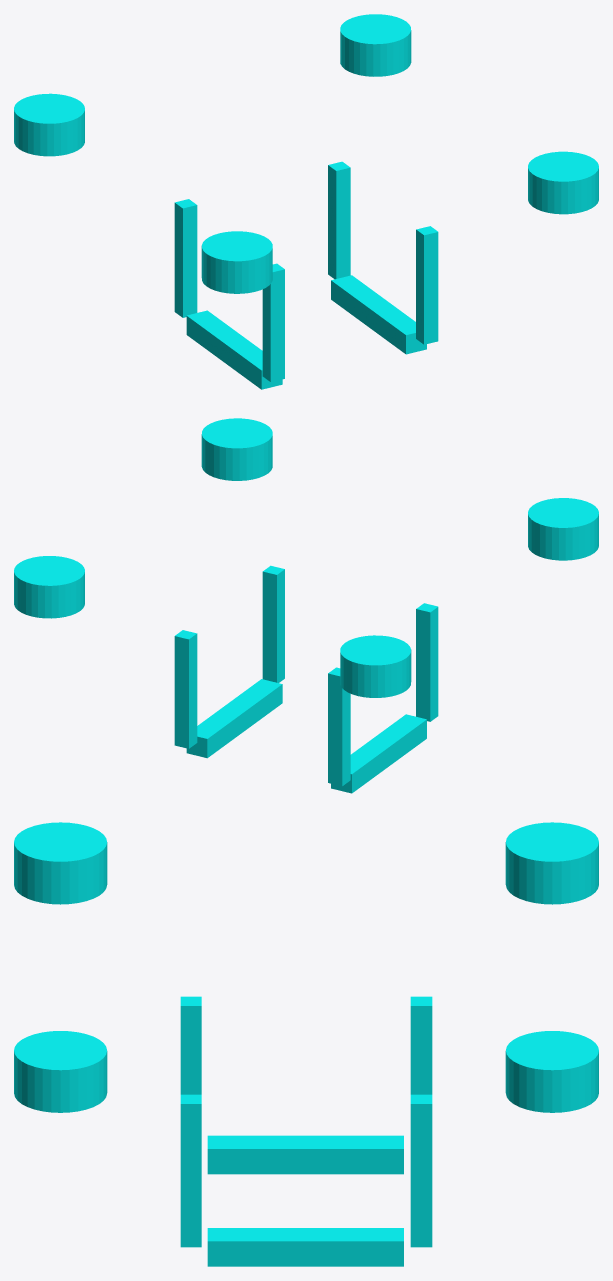
The model's file is SM_QuadcopterFrameCollider.fbx.
3 renders of one model, top to bottom at view 1: azimuth 30°, elevation 25°; view 2: azimuth 150°, elevation 25°; view 3: azimuth 270°, elevation 25°, orthographic. The views are drawn at different scales.
Parts seen in each view (by area): view 1: QuadcopterFrameCollider.01, QuadcopterFrameCollider.04, QuadcopterFrameCollider.03, QuadcopterFrameCollider.02, QuadcopterFrameCollider.06, QuadcopterFrameCollider.09, QuadcopterFrameCollider.10, QuadcopterFrameCollider.07, QuadcopterFrameCollider.05, QuadcopterFrameCollider.08; view 2: QuadcopterFrameCollider.02, QuadcopterFrameCollider.03, QuadcopterFrameCollider.01, QuadcopterFrameCollider.04, QuadcopterFrameCollider.06, QuadcopterFrameCollider.09, QuadcopterFrameCollider.05, QuadcopterFrameCollider.08, QuadcopterFrameCollider.07, QuadcopterFrameCollider.10; view 3: QuadcopterFrameCollider.09, QuadcopterFrameCollider.06, QuadcopterFrameCollider.01, QuadcopterFrameCollider.02, QuadcopterFrameCollider.03, QuadcopterFrameCollider.04, QuadcopterFrameCollider.05, QuadcopterFrameCollider.07, QuadcopterFrameCollider.10, QuadcopterFrameCollider.08.
Boxes of the visible parts, x1,y1,x2,y2 form: QuadcopterFrameCollider.01: [201, 231, 272, 293]; QuadcopterFrameCollider.04: [340, 14, 411, 76]; QuadcopterFrameCollider.03: [528, 151, 598, 214]; QuadcopterFrameCollider.02: [14, 93, 84, 156]; QuadcopterFrameCollider.06: [331, 275, 426, 354]; QuadcopterFrameCollider.09: [186, 310, 282, 389]; QuadcopterFrameCollider.10: [174, 199, 197, 317]; QuadcopterFrameCollider.07: [416, 226, 438, 344]; QuadcopterFrameCollider.05: [328, 161, 350, 279]; QuadcopterFrameCollider.08: [262, 263, 284, 381]; QuadcopterFrameCollider.02: [340, 635, 411, 697]; QuadcopterFrameCollider.03: [201, 418, 272, 480]; QuadcopterFrameCollider.01: [528, 498, 598, 560]; QuadcopterFrameCollider.04: [14, 556, 84, 618]; QuadcopterFrameCollider.06: [186, 679, 282, 758]; QuadcopterFrameCollider.09: [331, 714, 426, 793]; QuadcopterFrameCollider.05: [174, 630, 197, 748]; QuadcopterFrameCollider.08: [416, 603, 438, 721]; QuadcopterFrameCollider.07: [262, 565, 284, 682]; QuadcopterFrameCollider.10: [328, 667, 350, 786]; QuadcopterFrameCollider.09: [207, 1135, 403, 1174]; QuadcopterFrameCollider.06: [207, 1228, 403, 1266]; QuadcopterFrameCollider.01: [14, 822, 107, 904]; QuadcopterFrameCollider.02: [505, 822, 598, 904]; QuadcopterFrameCollider.03: [14, 1031, 107, 1112]; QuadcopterFrameCollider.04: [505, 1031, 598, 1112]; QuadcopterFrameCollider.05: [410, 1094, 432, 1247]; QuadcopterFrameCollider.07: [180, 1094, 201, 1247]; QuadcopterFrameCollider.10: [410, 996, 432, 1094]; QuadcopterFrameCollider.08: [180, 996, 201, 1094].
Bounding box in the file's own units: 50.34 × 25.33 × 50.23.
